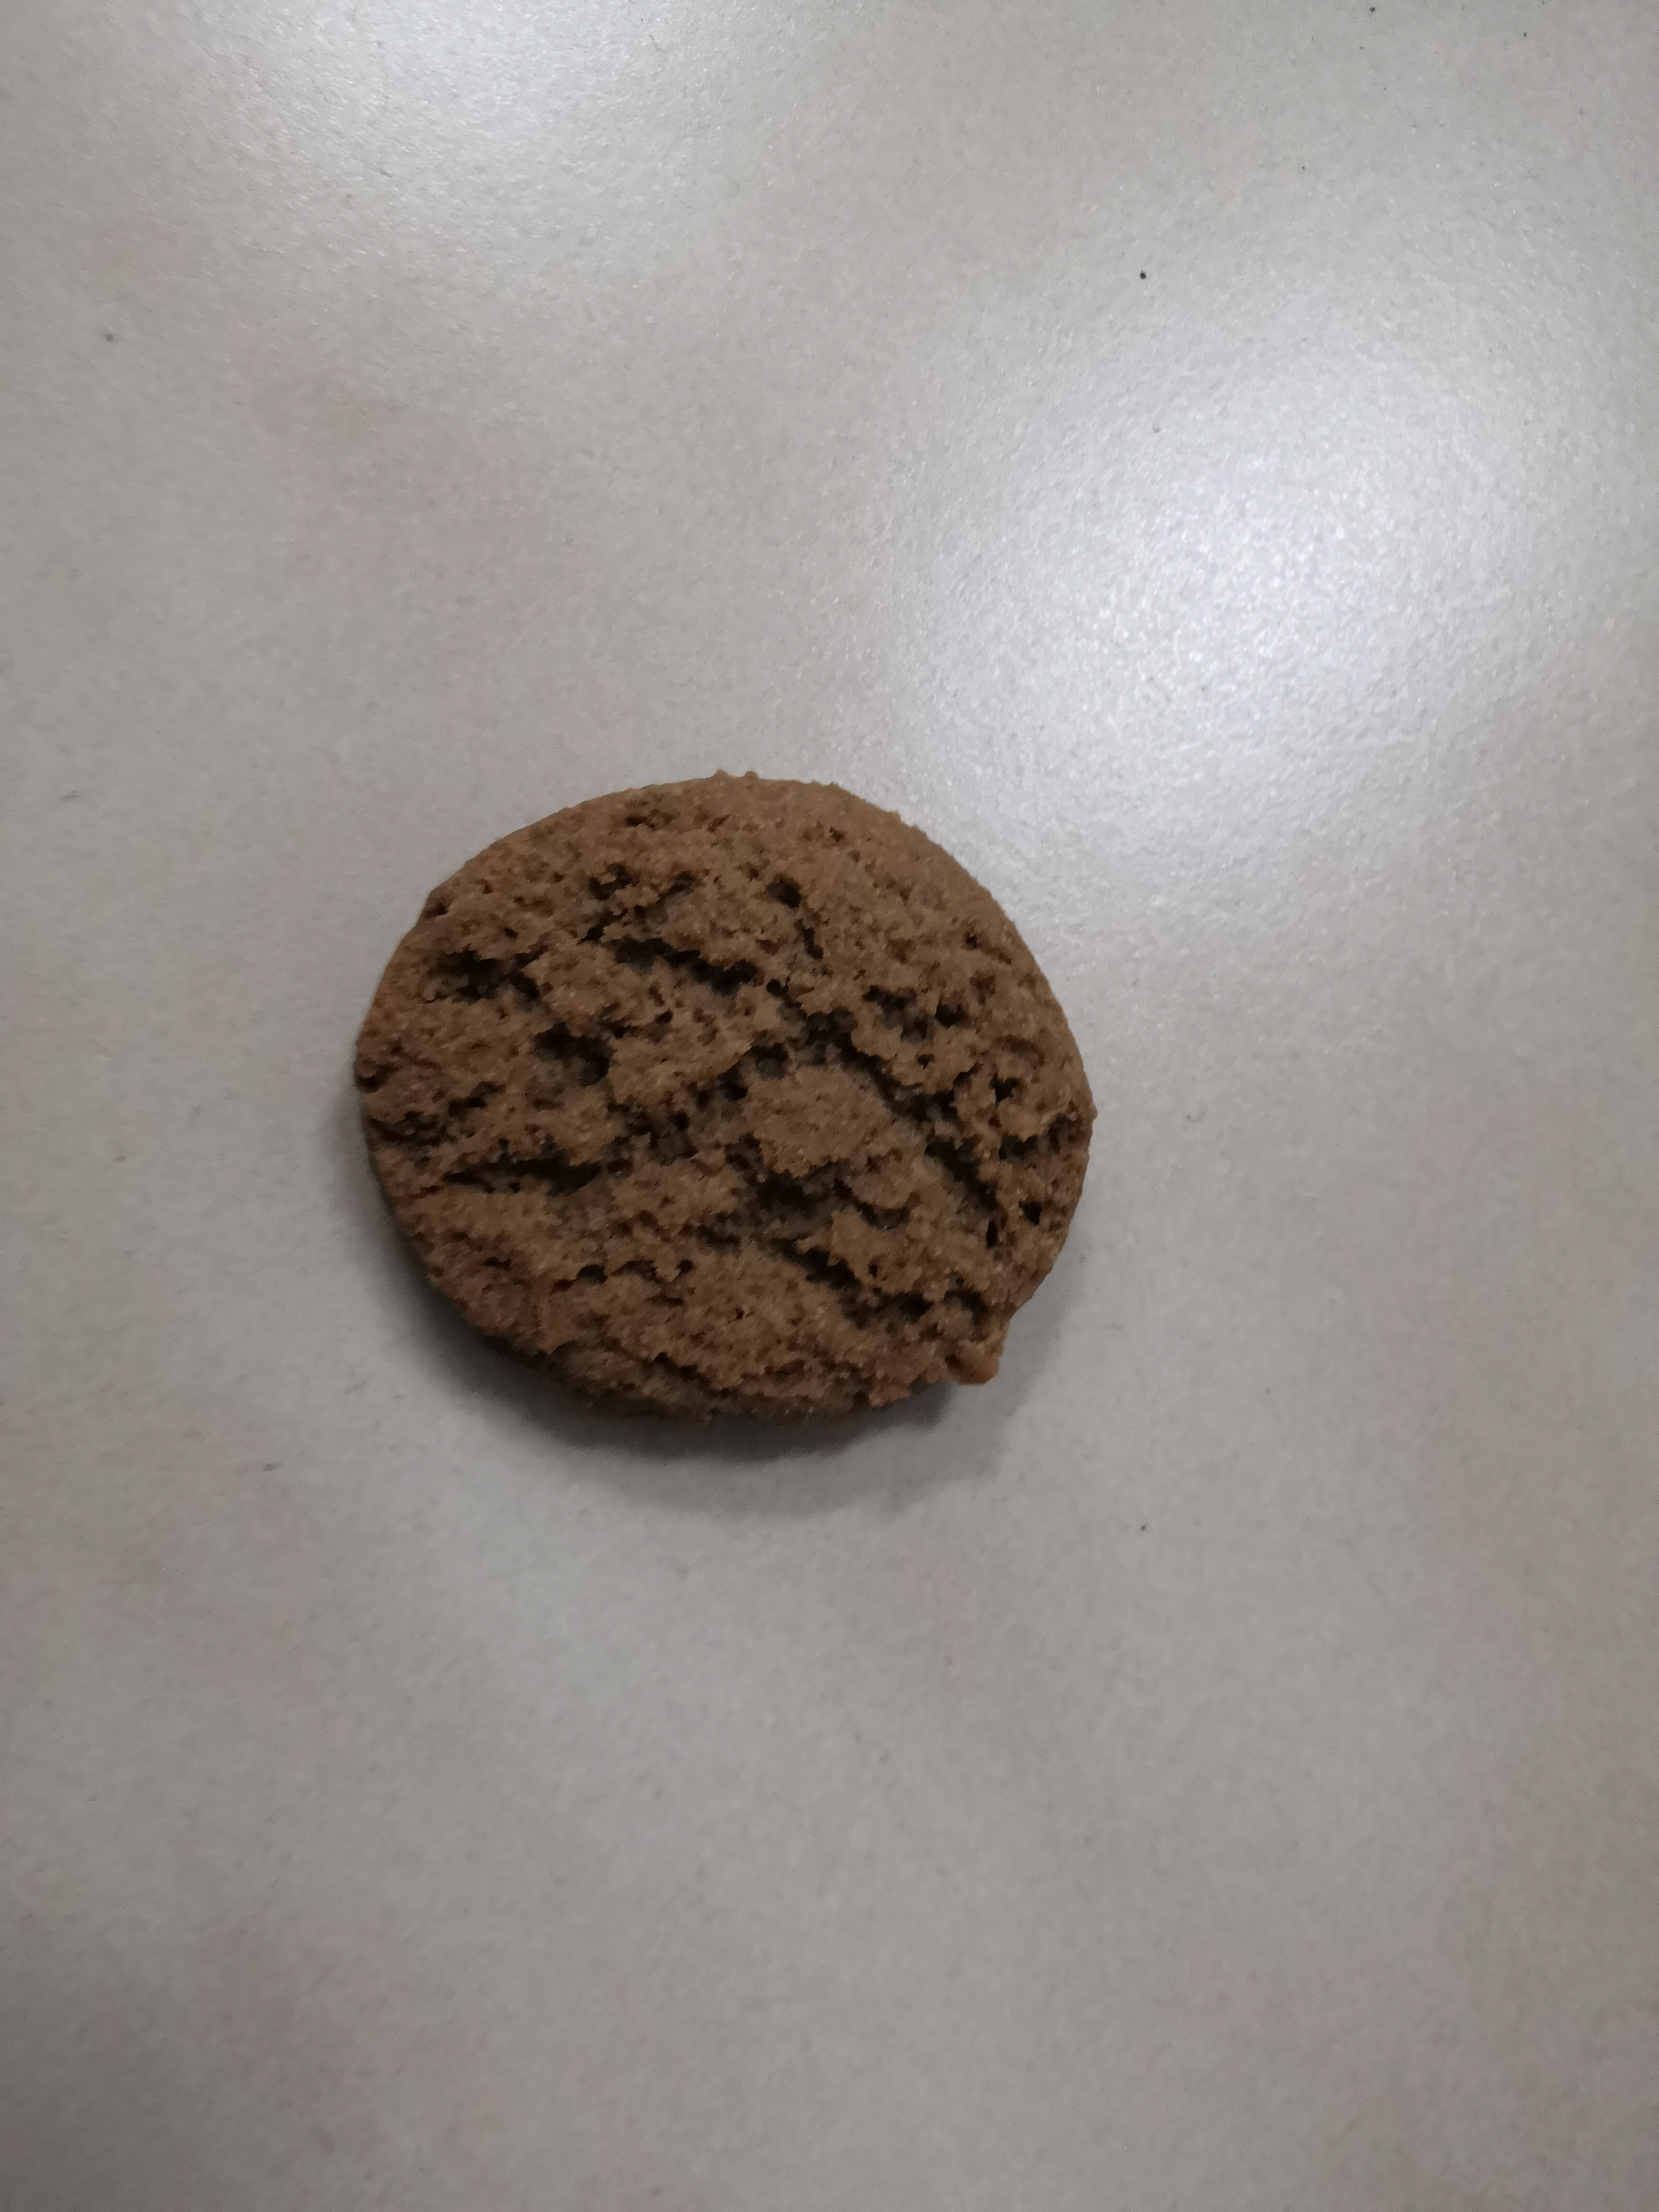Cookie3: (357, 765, 1098, 1409)
